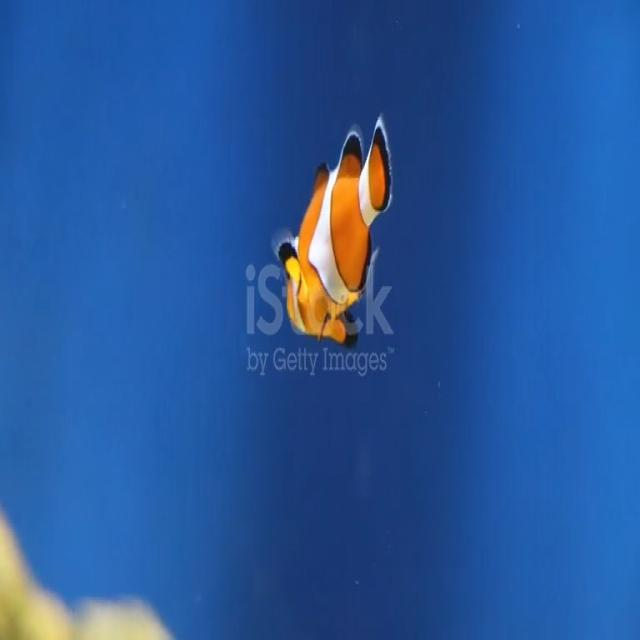fish: (270, 105, 394, 348)
